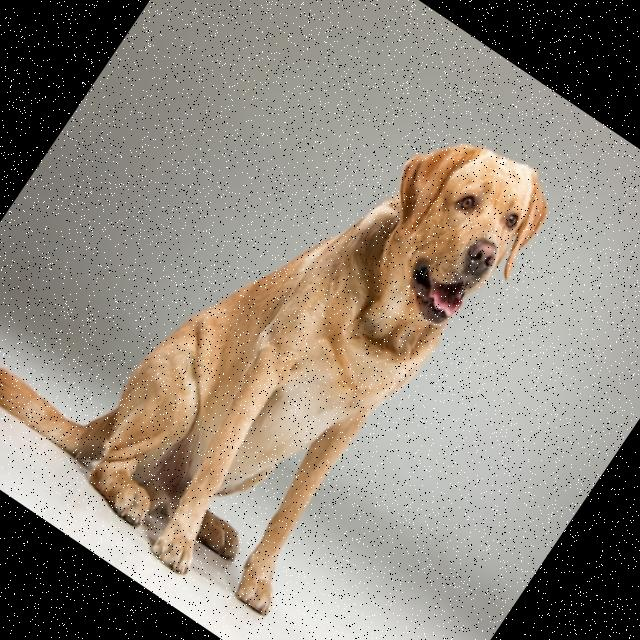Dog: (0, 0, 564, 634)
